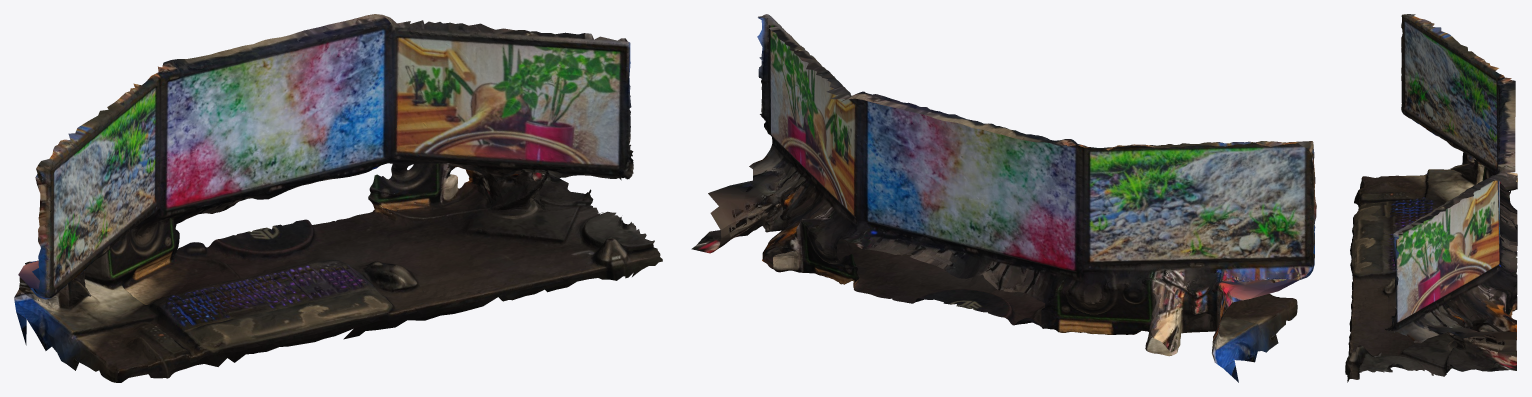
The model's file is screens.obj.
The picture shows the model from 3 angles, left to right: view 1: azimuth 30°, elevation 25°; view 2: azimuth 150°, elevation 25°; view 3: azimuth 270°, elevation 25°; orthographic projection. The views are drawn at different scales.
Bounding box in the file's own units: 1.45 × 0.5325 × 0.4896.
Materials: 1 (1 with a texture image).
